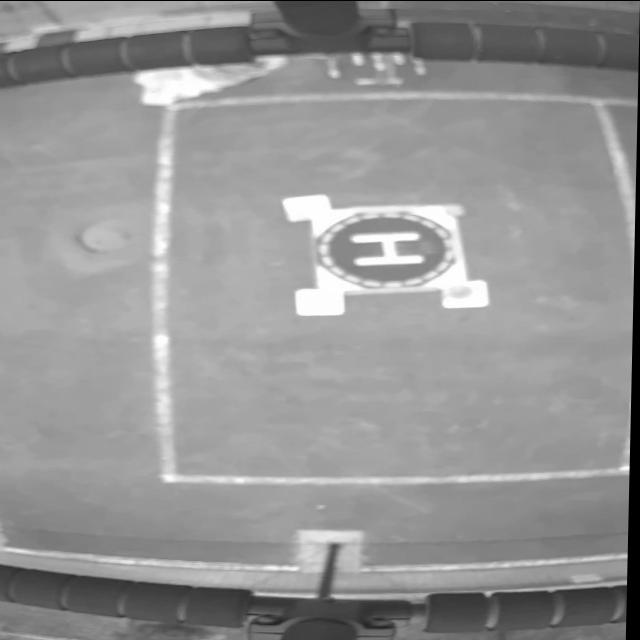Helipad: (351, 230, 428, 265)
